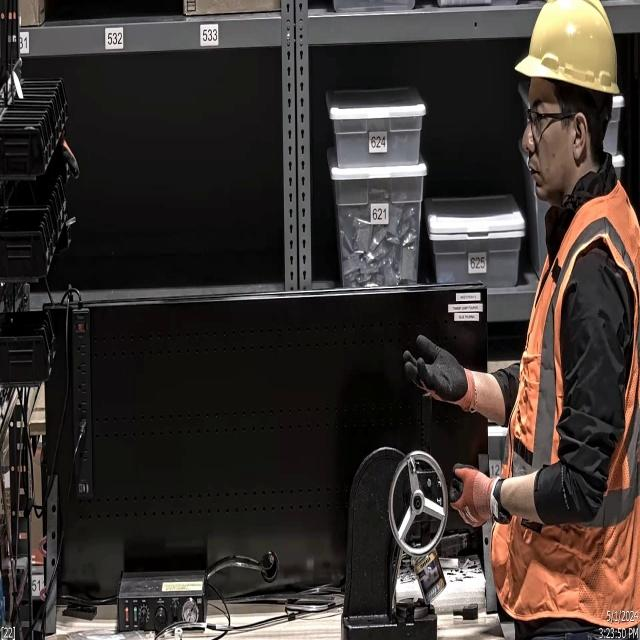construction-gloves: (402, 333, 480, 414), (442, 462, 504, 530)
